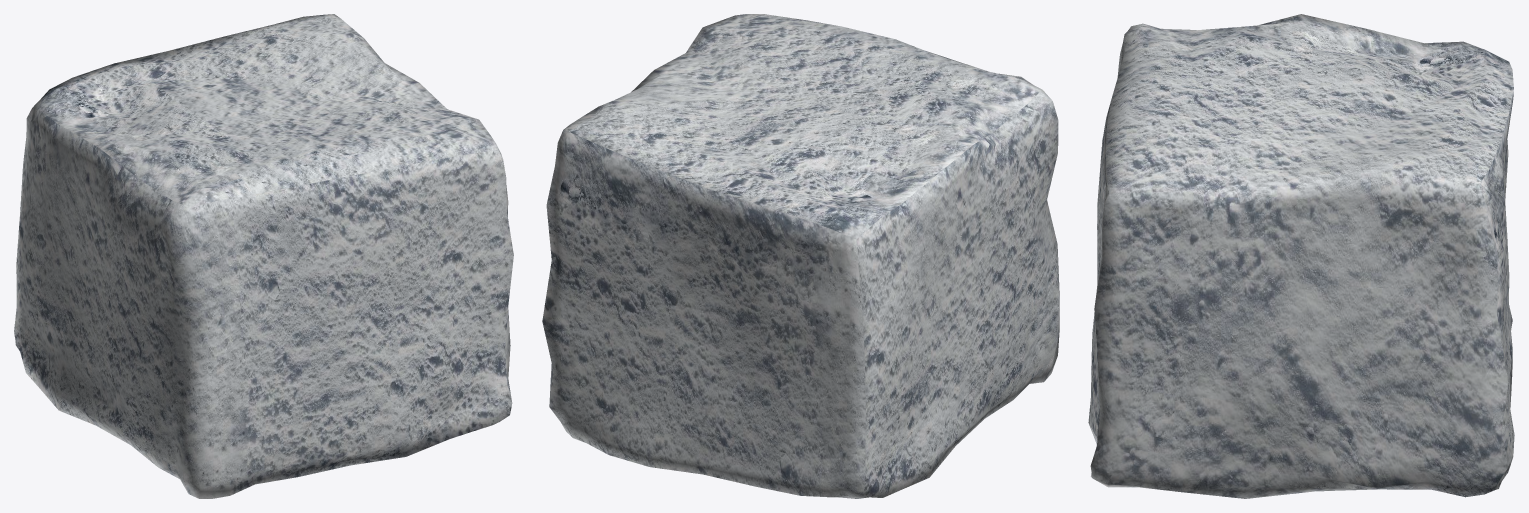
The model's file is FlyingStoneWhite.FBX.
The picture shows the model from 3 angles, left to right: view 1: azimuth 30°, elevation 25°; view 2: azimuth 150°, elevation 25°; view 3: azimuth 270°, elevation 25°; orthographic projection. The views are drawn at different scales.
Visible parts, largest first — view 1: Obj3d66-8645007-6-249; view 2: Obj3d66-8645007-6-249; view 3: Obj3d66-8645007-6-249.
Boxes of the visible parts, bbox=[...] form: Obj3d66-8645007-6-249: bbox=[14, 14, 513, 498]; Obj3d66-8645007-6-249: bbox=[542, 14, 1059, 498]; Obj3d66-8645007-6-249: bbox=[1088, 14, 1514, 498].
Bounding box in the file's own units: 637 × 567 × 647.
Materials: 1 (1 with a texture image).
